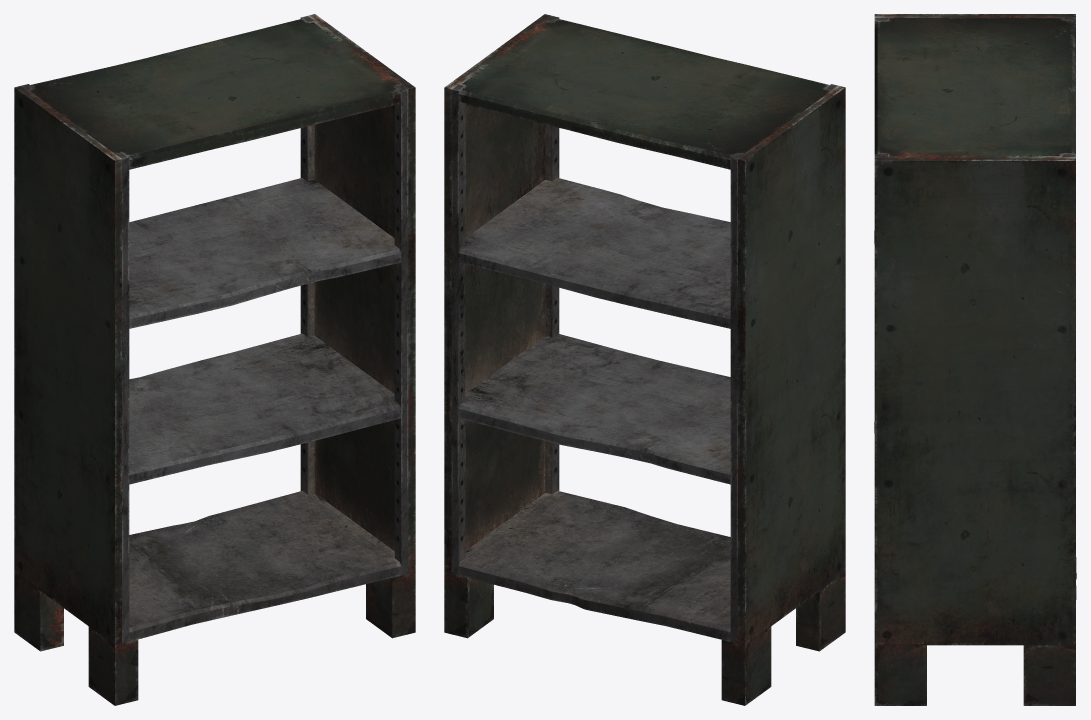
File: shelf_metal_large.dae
The picture shows the model from 3 angles, left to right: view 1: azimuth 30°, elevation 25°; view 2: azimuth 150°, elevation 25°; view 3: azimuth 270°, elevation 25°; orthographic projection.
Parts seen in each view (by area): view 1: Metal_Side_Walls_lp, Shelf_02_lp, Shelf_01_lp, Shelf_03_lp, Rails_lp, Legs_lp; view 2: Metal_Side_Walls_lp, Shelf_02_lp, Shelf_01_lp, Shelf_03_lp, Rails_lp, Legs_lp; view 3: Metal_Side_Walls_lp, Shelf_01_lp, Legs_lp.
Part boxes in pixels (<box>): Metal_Side_Walls_lp: <box>14,14,415,645</box>; Shelf_02_lp: <box>129,178,401,484</box>; Shelf_01_lp: <box>28,18,401,169</box>; Shelf_03_lp: <box>129,491,401,641</box>; Rails_lp: <box>22,16,408,643</box>; Legs_lp: <box>14,572,415,705</box>; Metal_Side_Walls_lp: <box>444,14,845,645</box>; Shelf_02_lp: <box>458,178,730,484</box>; Shelf_01_lp: <box>458,18,831,169</box>; Shelf_03_lp: <box>458,491,730,641</box>; Rails_lp: <box>451,16,837,643</box>; Legs_lp: <box>444,572,845,705</box>; Metal_Side_Walls_lp: <box>874,14,1075,645</box>; Shelf_01_lp: <box>874,17,1075,157</box>; Legs_lp: <box>874,645,1075,705</box>.
Bounding box in the file's own units: 156 × 270 × 90.74.
